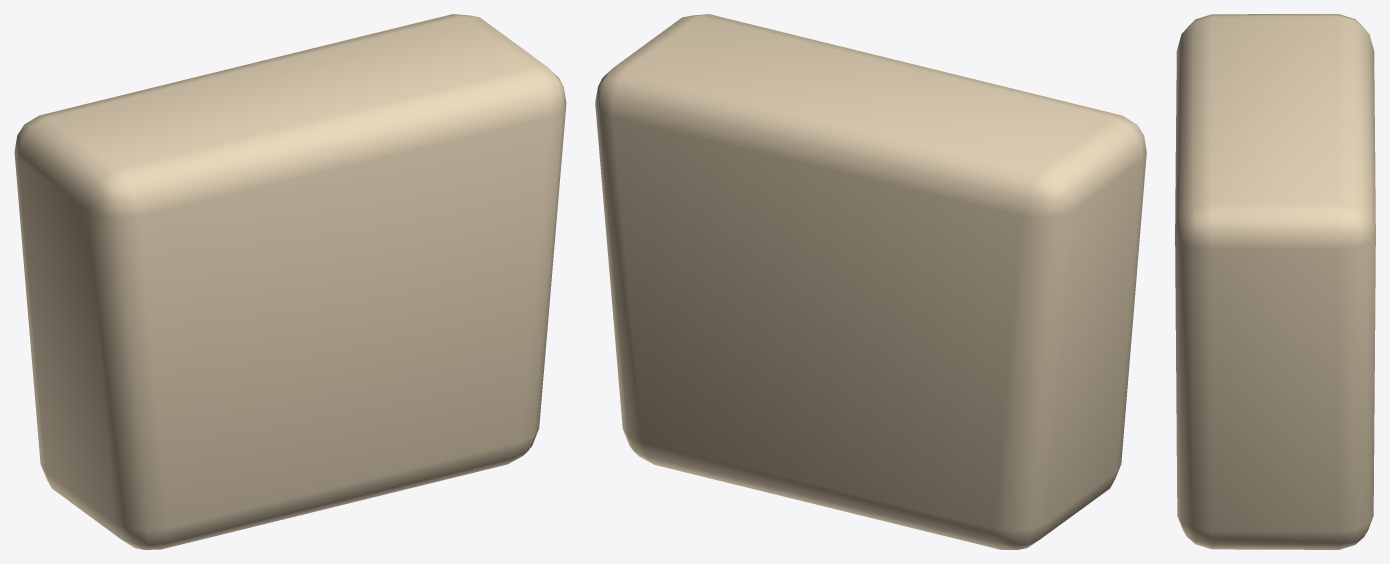
Rendered from BOGENSTEIN_R12.glb.
3 renders of one model, left to right at view 1: azimuth 30°, elevation 25°; view 2: azimuth 150°, elevation 25°; view 3: azimuth 270°, elevation 25°, orthographic. The views are drawn at different scales.
Visible parts, largest first — view 1: BOGENSTEIN_R12; view 2: BOGENSTEIN_R12; view 3: BOGENSTEIN_R12.
Part boxes in pixels (x1,y1,x2,y2): BOGENSTEIN_R12: [14, 14, 566, 549]; BOGENSTEIN_R12: [595, 14, 1146, 549]; BOGENSTEIN_R12: [1175, 14, 1375, 549].
Size of the model in its own units: 2.55 by 1.99 by 1.01.
